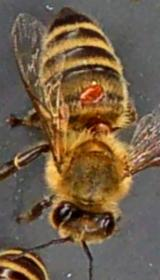varroa_mite: (74, 78, 107, 112)
